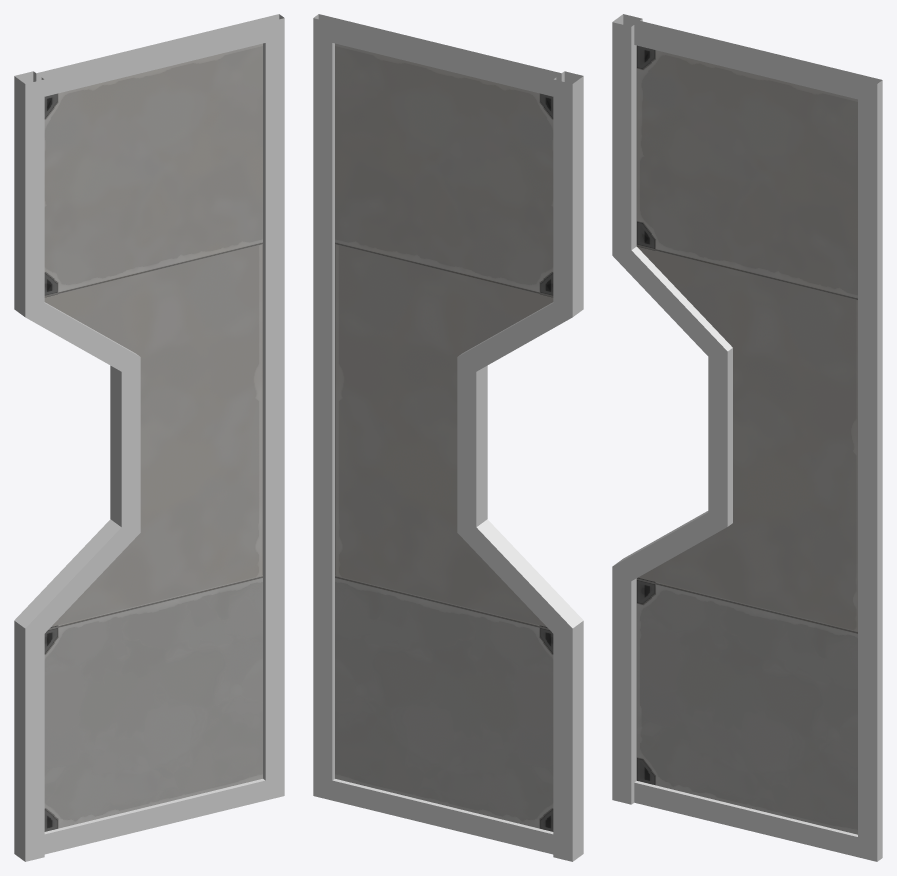
The model's file is door01_L.fbx.
The picture shows the model from 3 angles, left to right: view 1: azimuth 30°, elevation 25°; view 2: azimuth 150°, elevation 25°; view 3: azimuth 330°, elevation 25°; orthographic projection.
Visible parts, largest first — view 1: door01_L; view 2: door01_L; view 3: door01_L.
Part boxes in pixels (bbox=[...]): door01_L: bbox=[14, 14, 284, 861]; door01_L: bbox=[313, 14, 583, 861]; door01_L: bbox=[612, 14, 882, 861].
Bounding box in the file's own units: 54.5 × 155 × 4.
